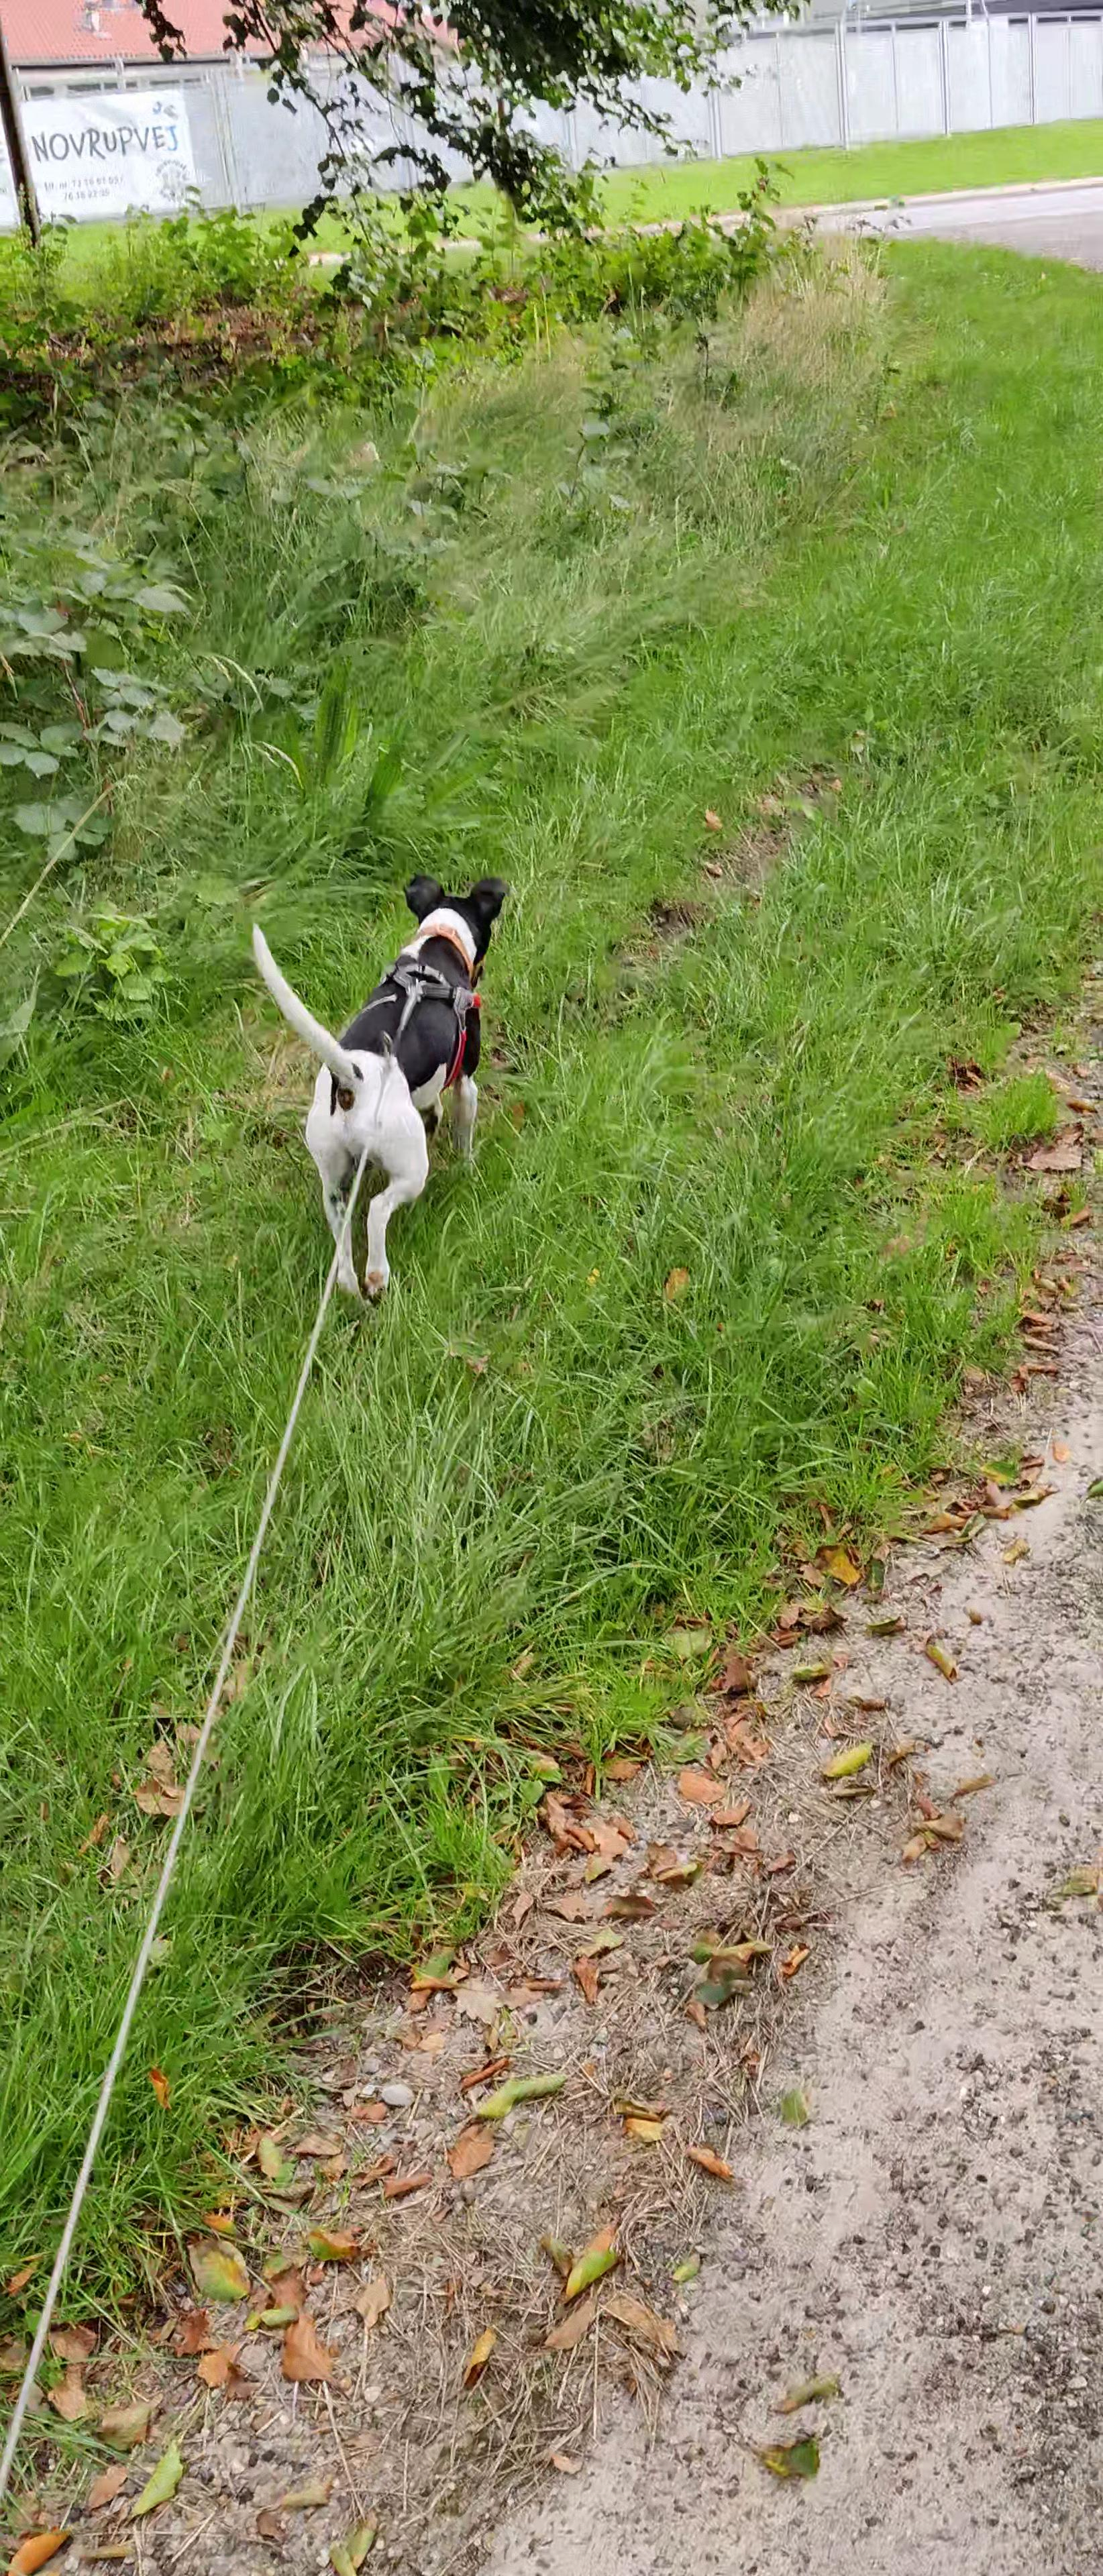Dog: (240, 846, 516, 1318)
